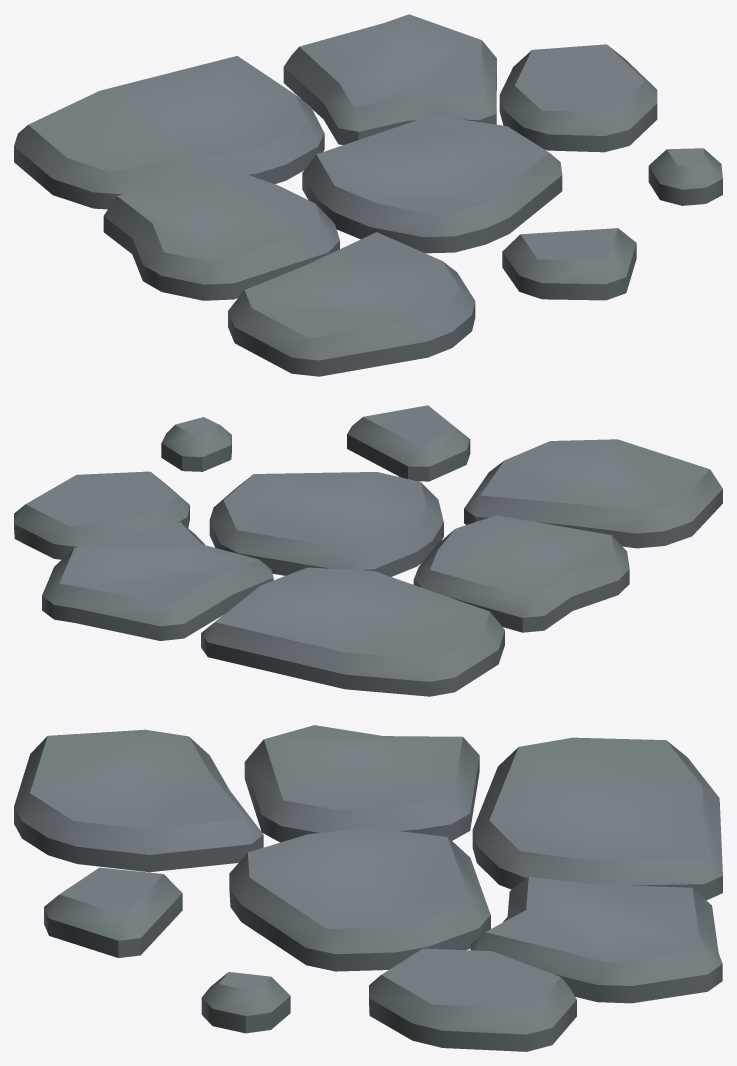
Rendered from path_C.glb.
3 renders of one model, top to bottom at view 1: azimuth 30°, elevation 25°; view 2: azimuth 150°, elevation 25°; view 3: azimuth 270°, elevation 25°, orthographic. The views are drawn at different scales.
Parts seen in each view (by area): view 1: path_C; view 2: path_C; view 3: path_C.
Part boxes in pixels (x1=…): path_C: x1=14, y1=14, x2=722, y2=376; path_C: x1=14, y1=405, x2=722, y2=696; path_C: x1=14, y1=725, x2=722, y2=1051.
Size of the model in its own units: 1.85 by 0.1 by 1.86.
1 material, 1 textured.
